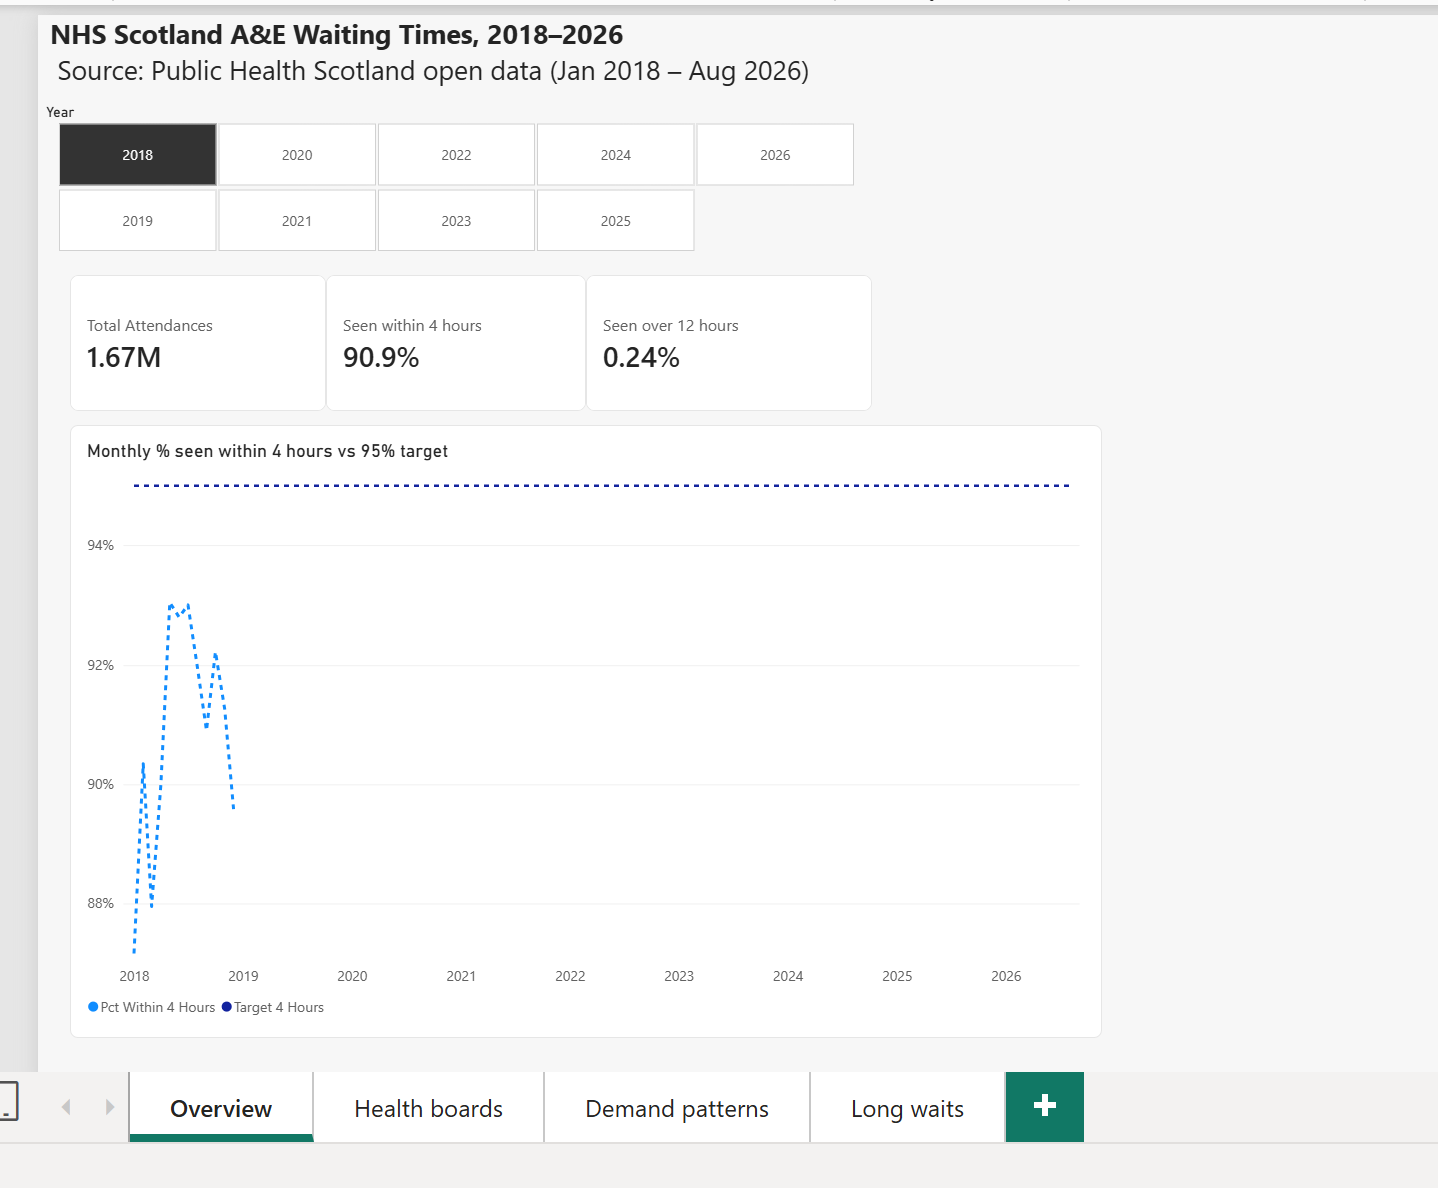

This screenshot's page, from the dashboard's own definition file:
{"tool":"powerbi","page":{"name":"Overview","canvas":[1920,1080],"ordinal":0},"visuals":[{"type":"textbox","box":[11.7,0,835,105],"z":0},{"type":"slicer","fields":{"Values":["Activity.Month.Variation.Date Hierarchy.Year"]},"box":[0,88,835,150],"z":1000},{"type":"cardVisual","fields":{"Data":["Activity.Pct Within 4 Hours"]},"box":[288,260,260,136],"z":2000},{"type":"cardVisual","fields":{"Data":["Activity.Total Attendances"]},"box":[32,260,256,136],"z":3000},{"type":"cardVisual","fields":{"Data":["Activity.Pct Over 12 Hours"]},"box":[548,260,286,136],"z":4000},{"type":"lineChart","title":"Monthly % seen within 4 hours vs 95% target","fields":{"Category":["Activity.Month"],"Y":["Activity.Pct Within 4 Hours","Activity.Target 4 Hours"]},"box":[32,410,1032,612],"z":5000}]}

Visuals, with their boxes on the page's 1920x1080 design canvas (x1, y1, x2, y2). These are canvas units, not pixel positions in the 1438x1188 screenshot, which may show the page scaled, cropped or inside an application window:
textbox: {"left": 12, "top": 0, "right": 847, "bottom": 105}
slicer - Activity.Month.Variation.Date Hierarchy.Year: {"left": 0, "top": 88, "right": 835, "bottom": 238}
cardVisual - Activity.Pct Within 4 Hours: {"left": 288, "top": 260, "right": 548, "bottom": 396}
cardVisual - Activity.Total Attendances: {"left": 32, "top": 260, "right": 288, "bottom": 396}
cardVisual - Activity.Pct Over 12 Hours: {"left": 548, "top": 260, "right": 834, "bottom": 396}
"Monthly % seen within 4 hours vs 95% target" lineChart: {"left": 32, "top": 410, "right": 1064, "bottom": 1022}
